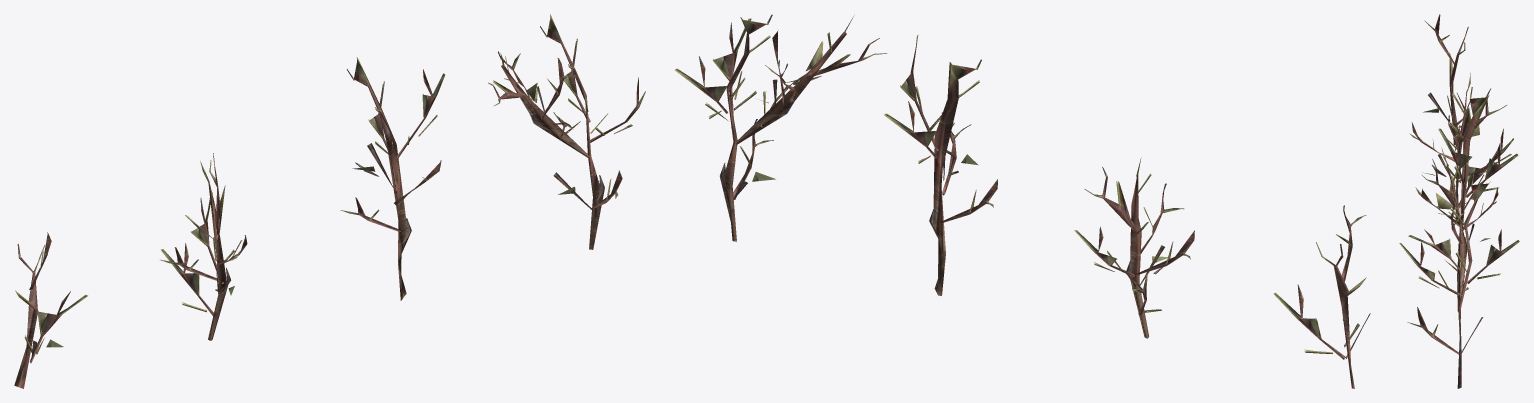
The model's file is shrub_04-mid.glb.
3 views of the same model, side by side, from view 1: azimuth 30°, elevation 25°; view 2: azimuth 150°, elevation 25°; view 3: azimuth 270°, elevation 25° (orthographic). The views are drawn at different scales.
Visible parts, largest first — view 1: shrub_04_mid; view 2: shrub_04_mid; view 3: shrub_04_mid.
Boxes of the visible parts, x1,y1,x2,y2 form: shrub_04_mid: (14, 14, 645, 388); shrub_04_mid: (674, 14, 1370, 388); shrub_04_mid: (1399, 14, 1519, 388).
Bounding box in the file's own units: 2.72 × 1 × 0.5328.
1 material, 1 textured.
